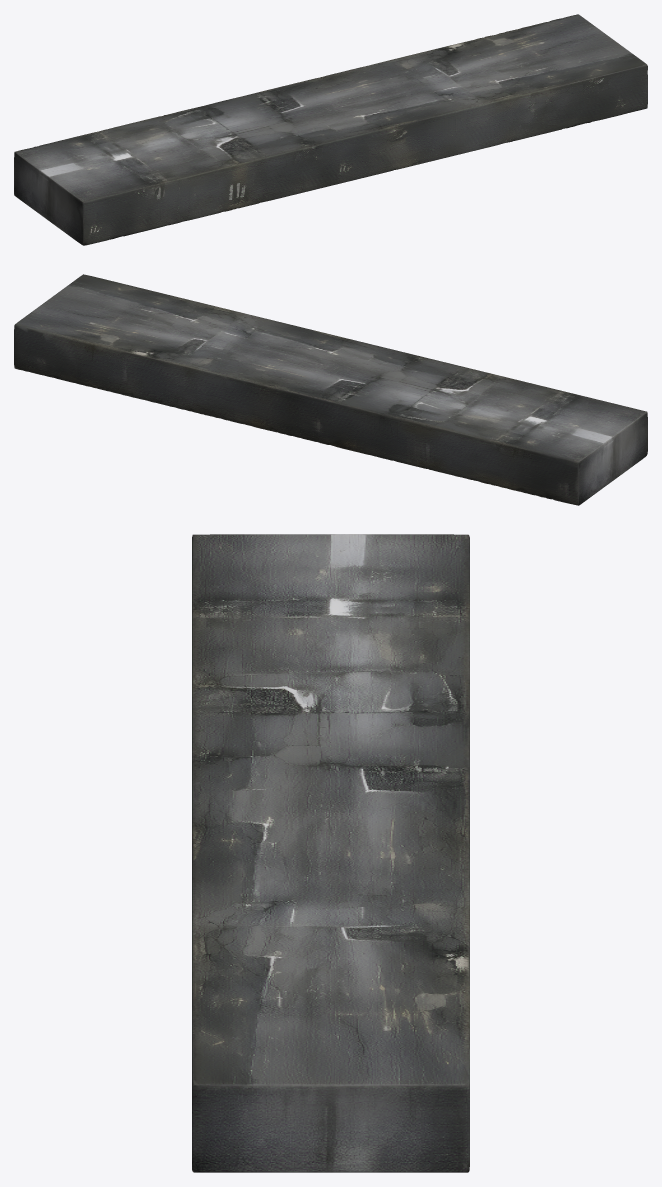
The model's file is Meshy_AI_1960s_New_York_City_s_0421192654_texture.fbx.
3 views of the same model, one above another, from view 1: azimuth 30°, elevation 25°; view 2: azimuth 150°, elevation 25°; view 3: azimuth 270°, elevation 25° (orthographic). The views are drawn at different scales.
Visible parts, largest first — view 1: Mesh_0; view 2: Mesh_0; view 3: Mesh_0.
Boxes of the visible parts, <box> form: Mesh_0: <box>14,14,647,245</box>; Mesh_0: <box>14,274,647,505</box>; Mesh_0: <box>192,534,469,1172</box>.
Size of the model in its own units: 191 by 14.3 by 40.79.
1 material, 1 textured.
